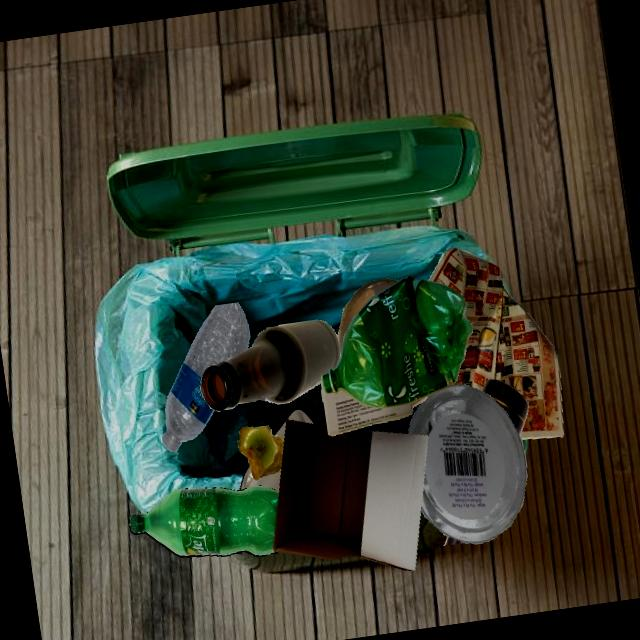biowaste: (237, 425, 284, 480)
cardboard: (273, 420, 428, 571)
glass: (201, 320, 341, 411), (481, 379, 528, 437), (274, 409, 315, 447), (239, 465, 282, 493)
paper: (428, 248, 563, 439), (322, 379, 413, 436)
plastic: (321, 275, 472, 408), (408, 385, 527, 544), (162, 302, 250, 452), (129, 485, 279, 557), (338, 278, 399, 359)
